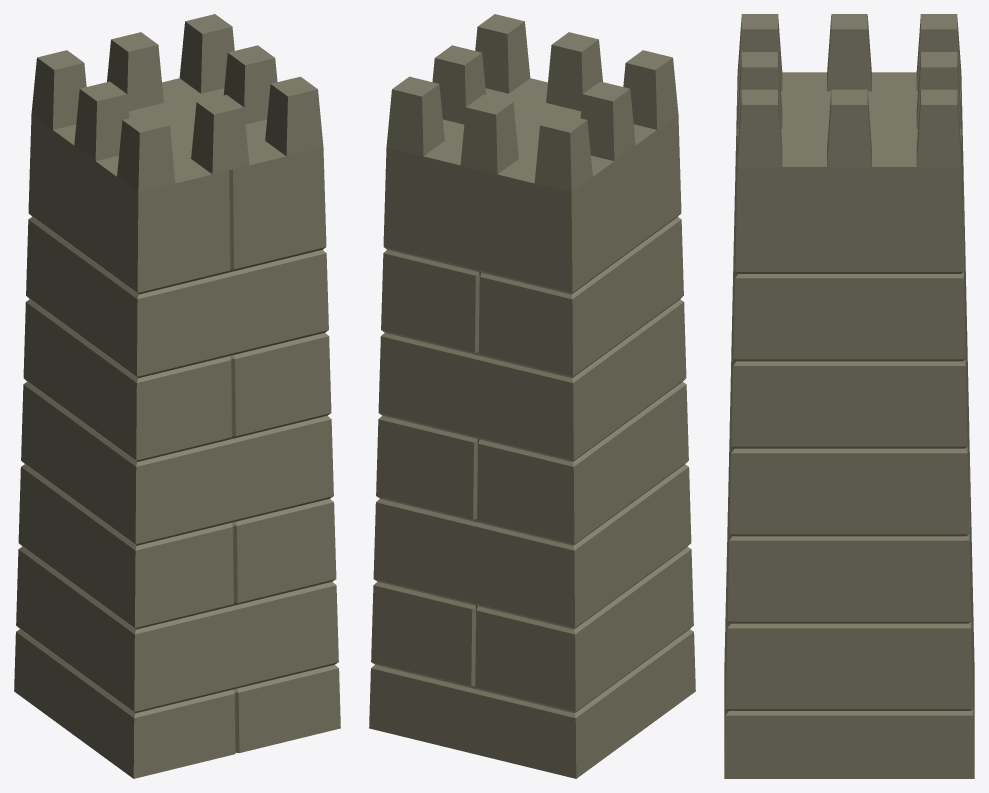
The model's file is Wall_Tower_mat.fbx.
3 views of the same model, side by side, from view 1: azimuth 30°, elevation 25°; view 2: azimuth 150°, elevation 25°; view 3: azimuth 270°, elevation 25° (orthographic). The views are drawn at different scales.
Visible parts, largest first — view 1: Wall_Tower_mat; view 2: Wall_Tower_mat; view 3: Wall_Tower_mat.
Boxes of the visible parts, box(x1,y1,x2,y2) form: Wall_Tower_mat: box(14, 14, 340, 778); Wall_Tower_mat: box(369, 14, 695, 778); Wall_Tower_mat: box(724, 14, 974, 778).
Bounding box in the file's own units: 122 × 358 × 122.
